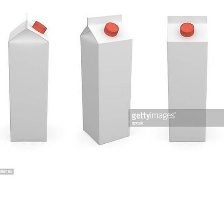carton: (76, 12, 136, 146), (162, 11, 214, 145), (6, 9, 52, 144)
